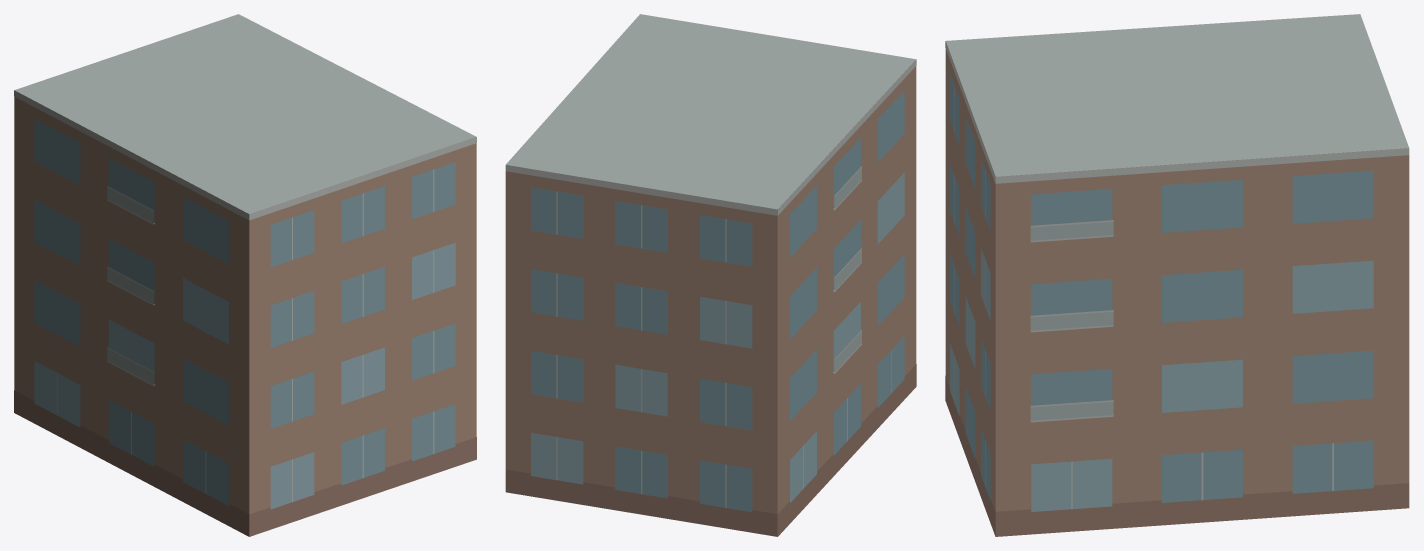
File: survey-upis-32976807.glb
The picture shows the model from 3 angles, left to right: view 1: azimuth 30°, elevation 25°; view 2: azimuth 150°, elevation 25°; view 3: azimuth 270°, elevation 25°; orthographic projection. The views are drawn at different scales.
Parts seen in each view (by area): view 1: survey-upis-32976807.tmp; view 2: survey-upis-32976807.tmp; view 3: survey-upis-32976807.tmp.
Boxes of the visible parts, <box> form: survey-upis-32976807.tmp: <box>14,14,476,536</box>; survey-upis-32976807.tmp: <box>505,14,916,536</box>; survey-upis-32976807.tmp: <box>945,14,1409,536</box>.
Bounding box in the file's own units: 12.18 × 12.55 × 14.66.
